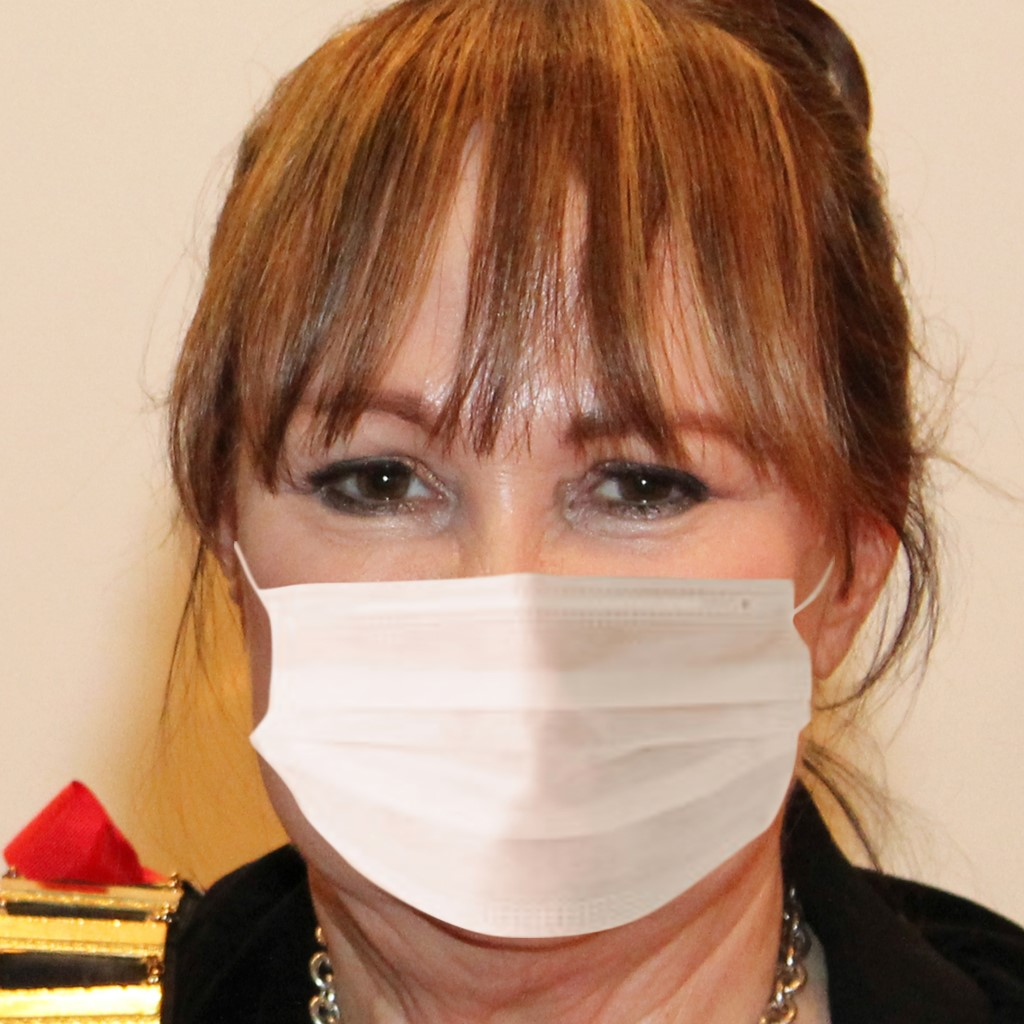con_mascara: (207, 48, 820, 982)
